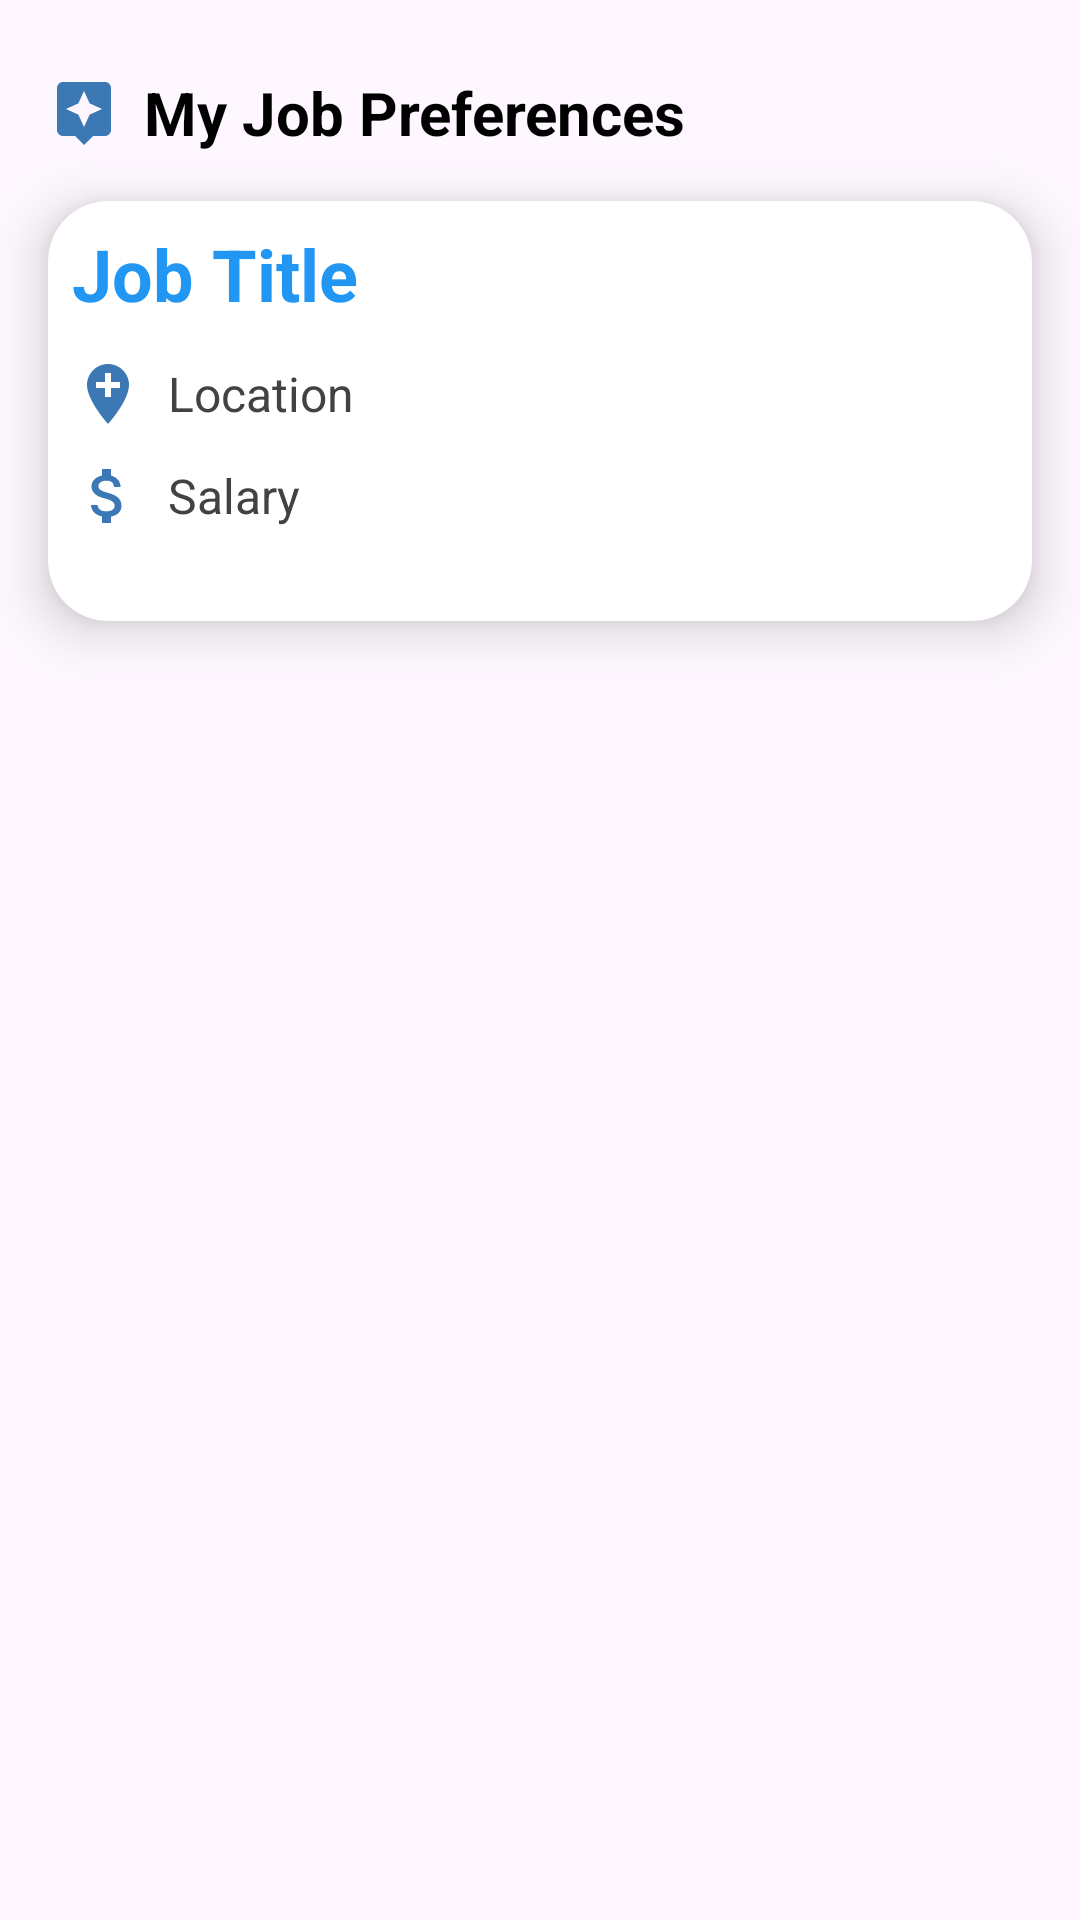

Point at icon controls on the screen. Image size 1080px×1920px, points as [x,y].
money: [106,496]
star: [84,113]
